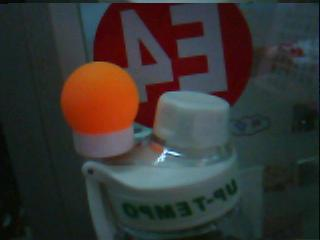oball: (61, 61, 139, 135)
